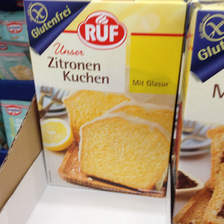cake: (22, 1, 190, 198)
